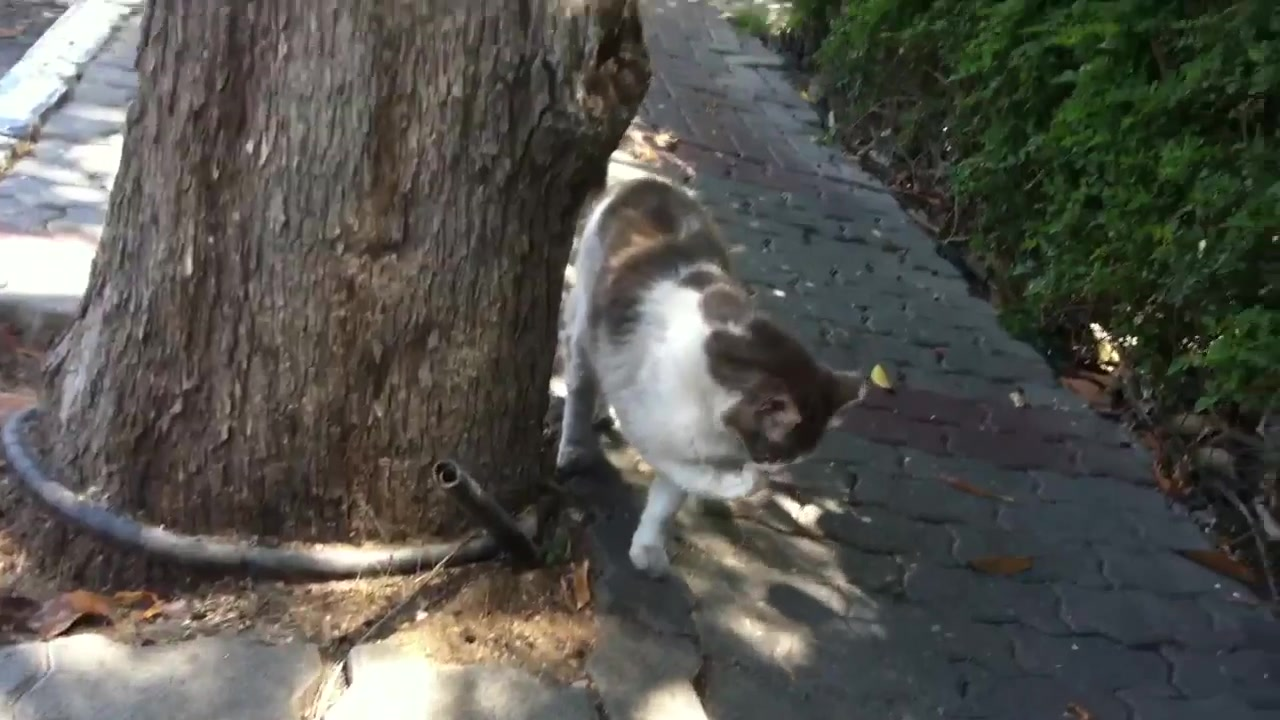cat: (554, 178, 871, 581)
